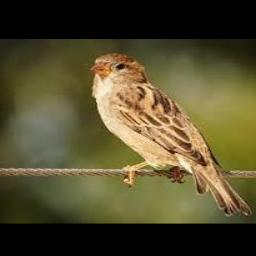Sparrow: (91, 53, 252, 216)
